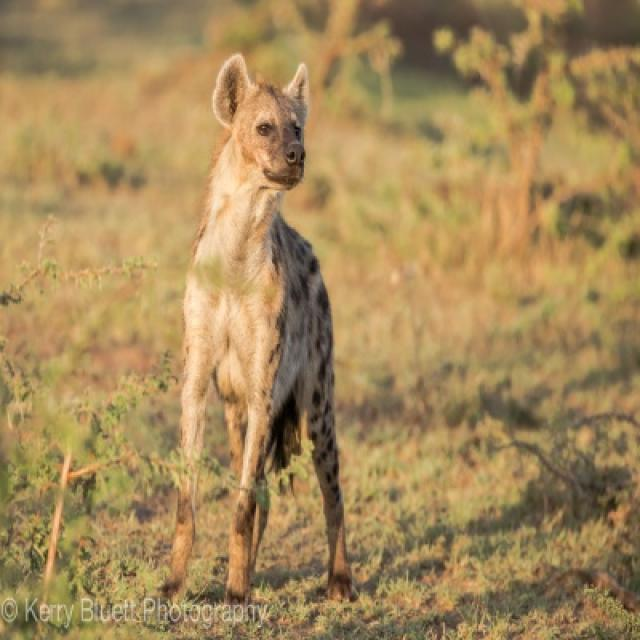hyena: (179, 53, 355, 606)
